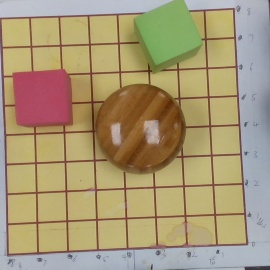chess: (96, 84, 186, 174)
